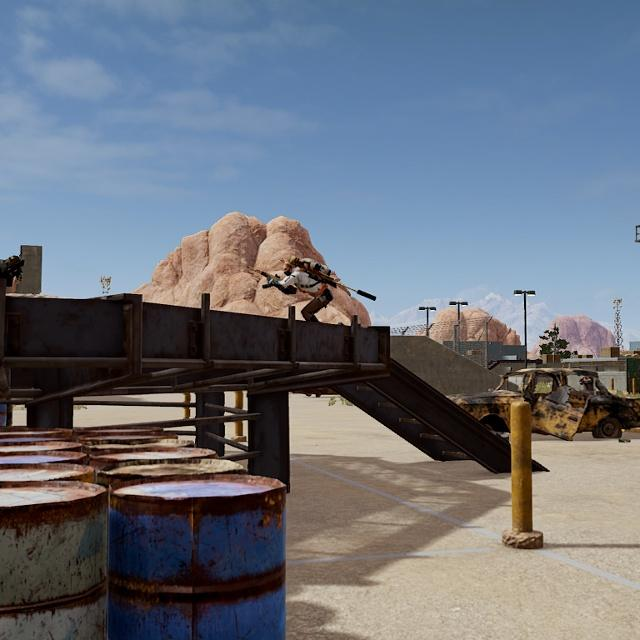head: (4, 253, 24, 275), (280, 257, 297, 278)
people: (267, 256, 339, 323), (0, 253, 26, 295)
